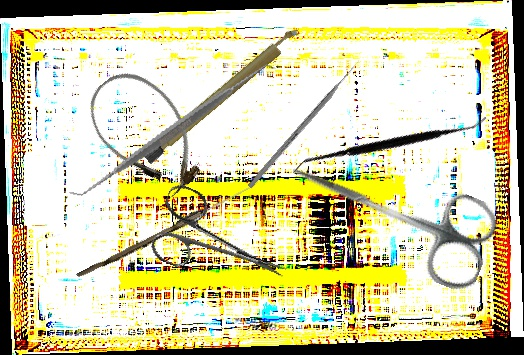Cannula: (73, 56, 219, 211)
Iris Scissors: (274, 130, 505, 297), (143, 181, 301, 307)
Pusher: (247, 59, 362, 189)
Scalpel Handle: (141, 24, 304, 166)
Spatula Surgical: (68, 23, 277, 238), (292, 47, 488, 244)
Surgical Spoon: (76, 182, 252, 283)
